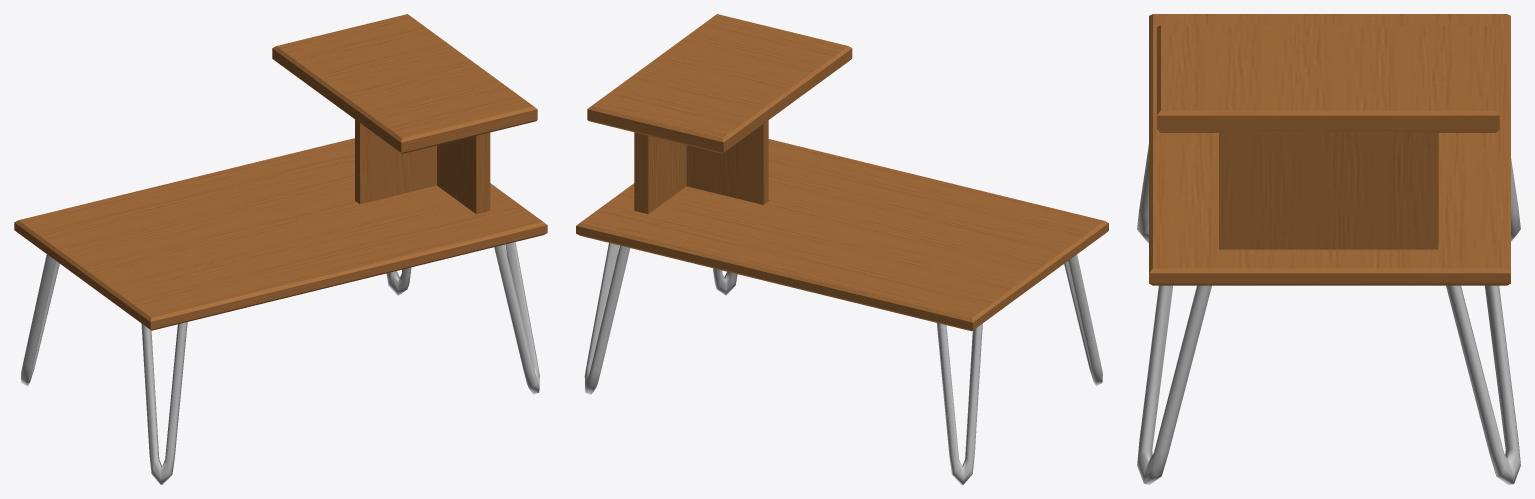
The model's file is End_Table_10.FBX.
The picture shows the model from 3 angles, left to right: view 1: azimuth 30°, elevation 25°; view 2: azimuth 150°, elevation 25°; view 3: azimuth 270°, elevation 25°; orthographic projection. The views are drawn at different scales.
Visible parts, largest first — view 1: End_Table; view 2: End_Table; view 3: End_Table.
Boxes of the visible parts, bbox=[...] form: End_Table: bbox=[14, 14, 547, 484]; End_Table: bbox=[576, 14, 1108, 484]; End_Table: bbox=[1137, 14, 1520, 484].
Bounding box in the file's own units: 160 × 109 × 101.
